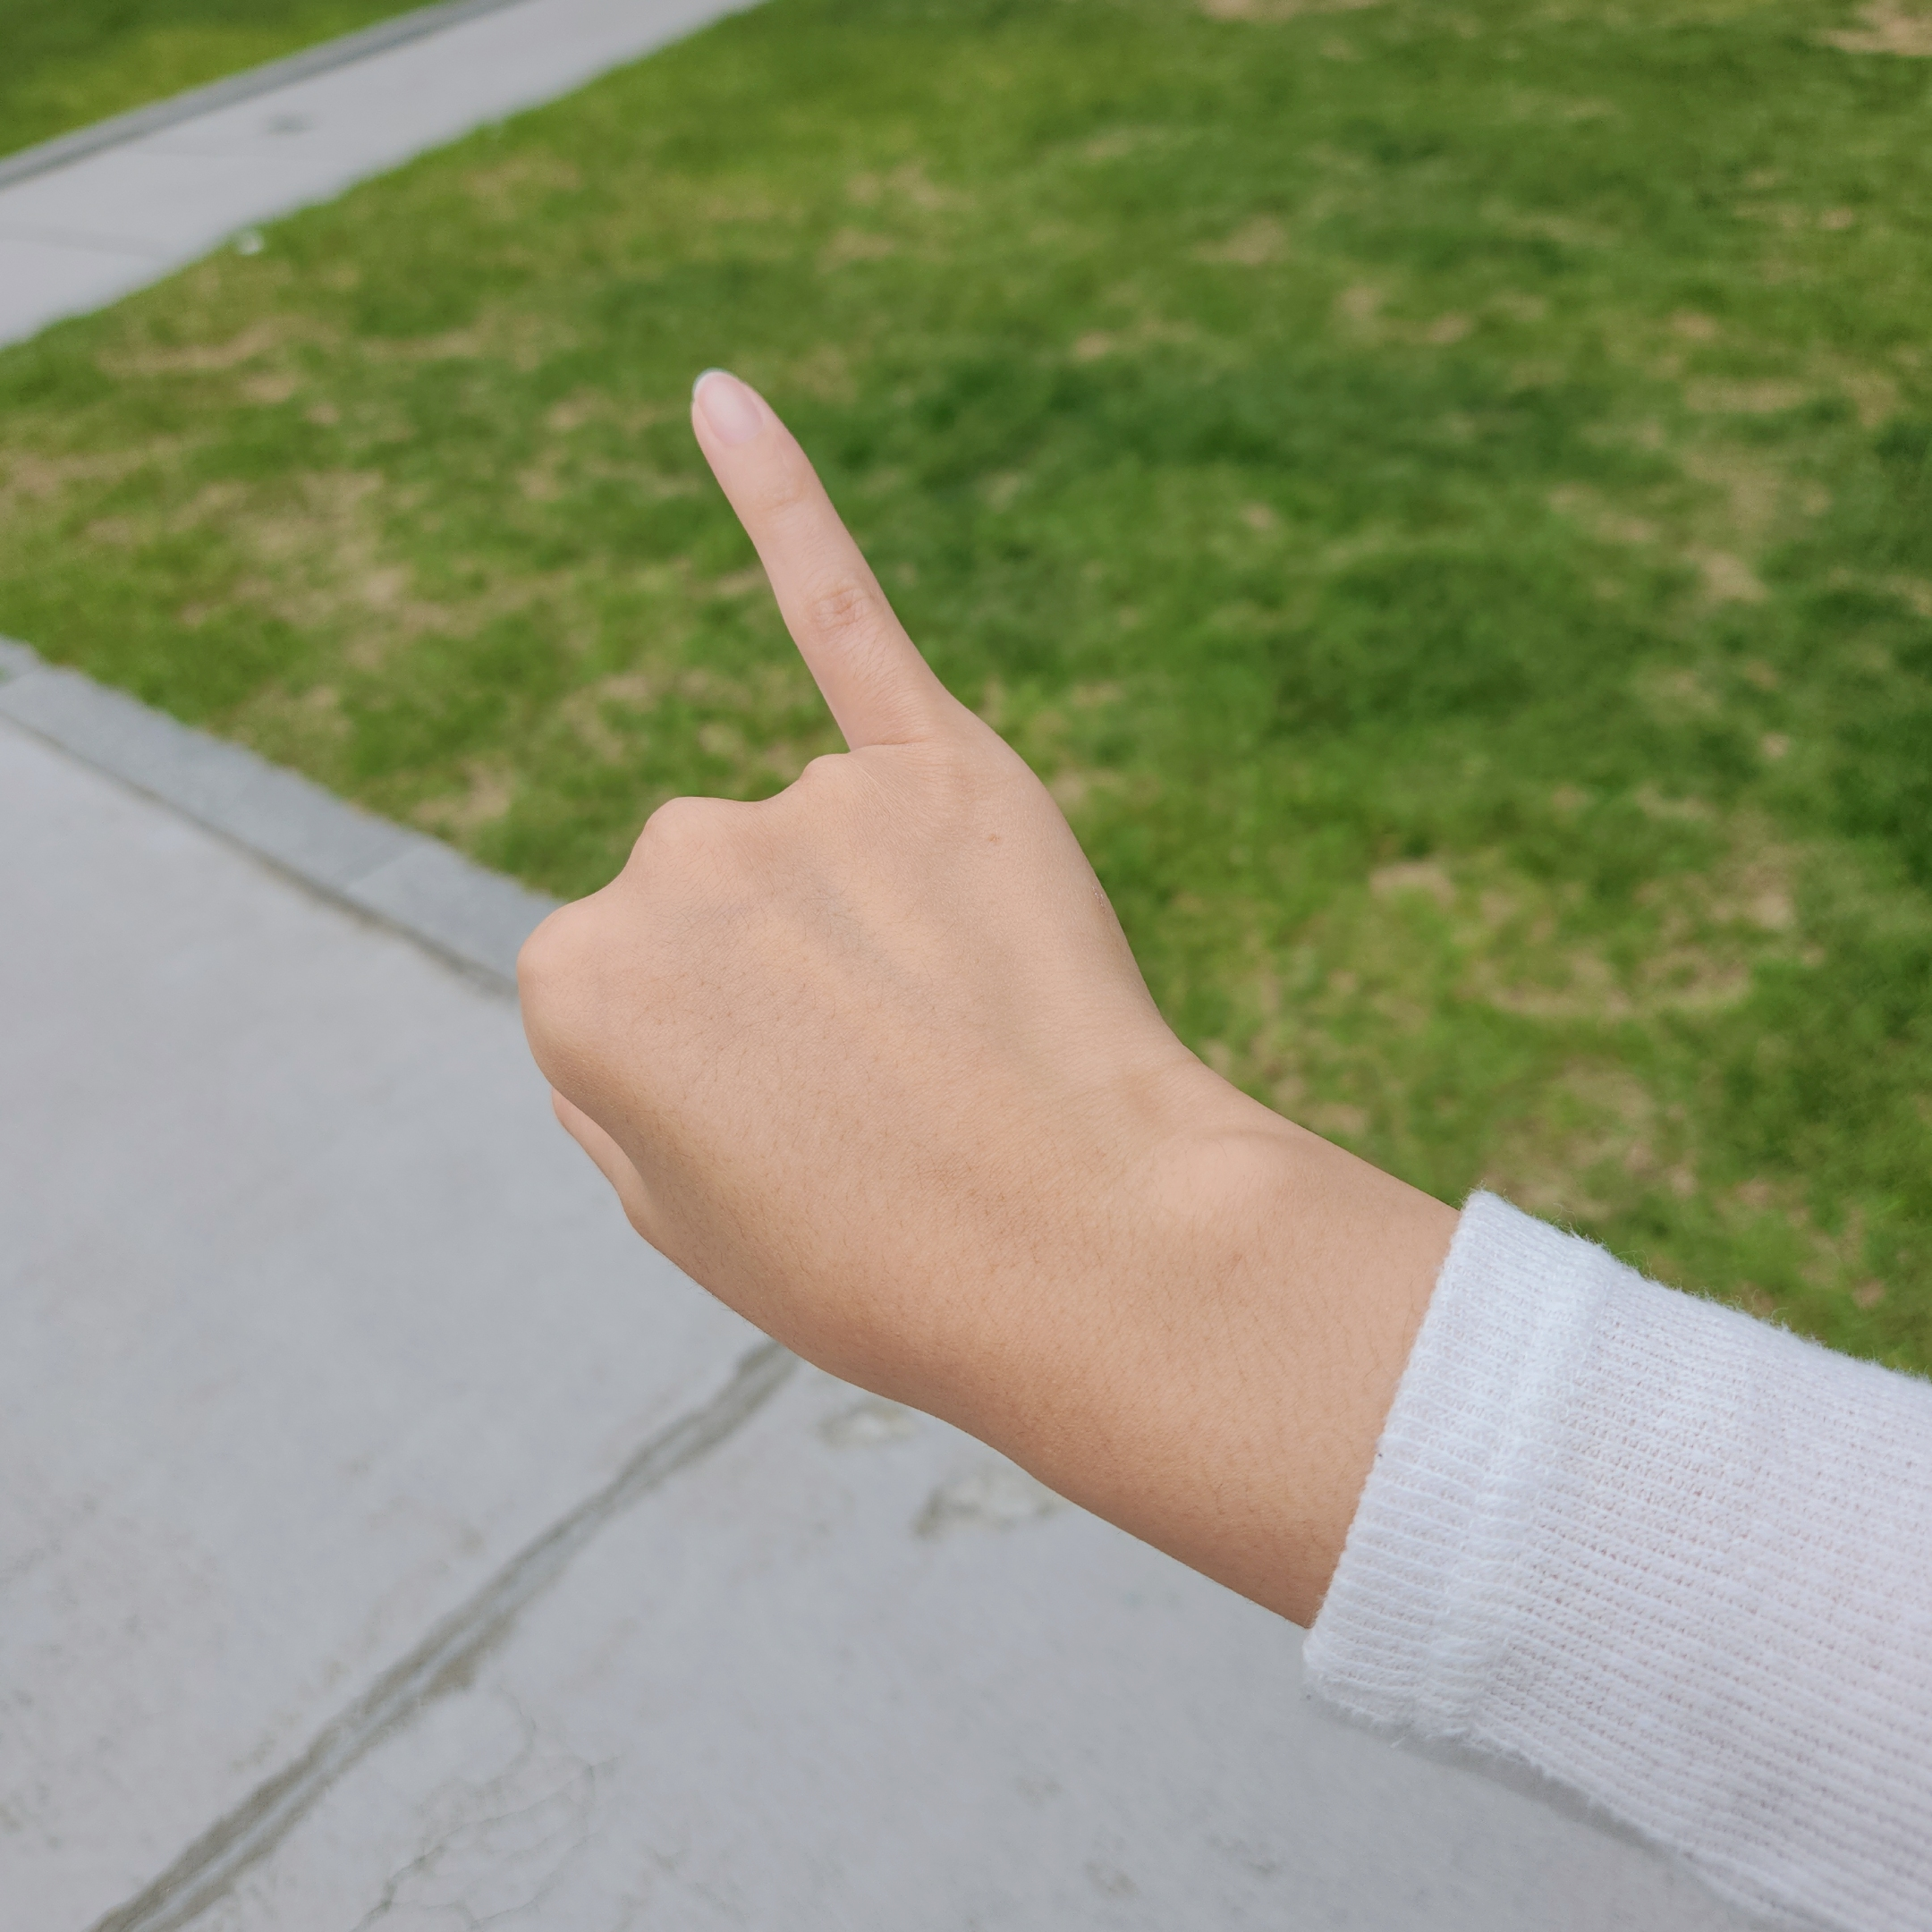fine: (511, 364, 1214, 1424)
